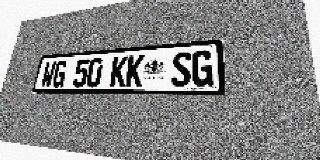0: (85, 58, 103, 87)
5: (72, 59, 90, 87)
G: (191, 50, 213, 87), (51, 60, 68, 87)
K: (125, 55, 144, 87), (109, 56, 128, 87)
S: (171, 51, 192, 87)
W: (40, 61, 57, 87)
